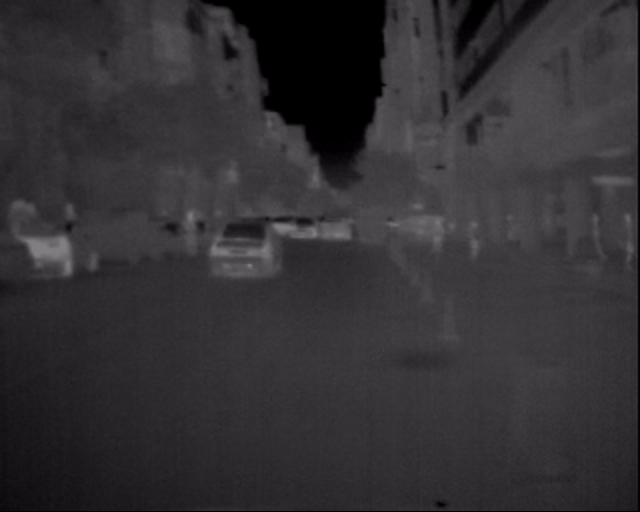person: (592, 205, 633, 274), (174, 204, 209, 265), (458, 214, 490, 267), (422, 211, 455, 257)
